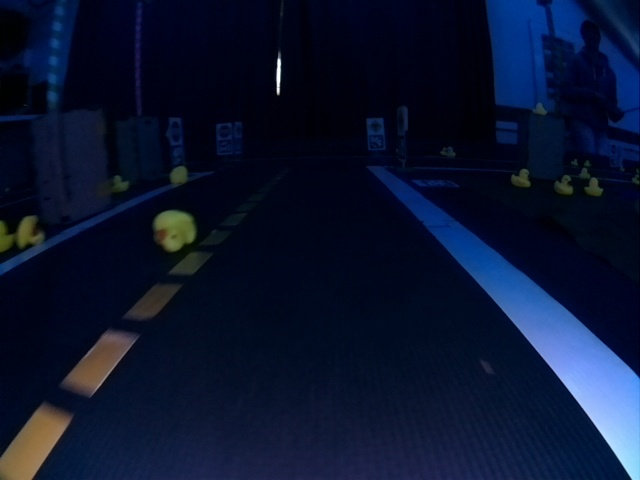Duckie: (152, 210, 197, 252), (18, 215, 45, 248), (584, 177, 604, 197), (555, 174, 573, 195), (512, 169, 532, 186), (111, 175, 129, 192), (172, 167, 188, 183), (578, 167, 591, 179), (533, 103, 545, 113), (447, 147, 456, 157)
Intersection sign: (369, 120, 382, 132)
QR code: (411, 179, 459, 189), (218, 140, 230, 153), (369, 138, 383, 149)
Stop sign: (169, 120, 181, 143), (217, 125, 230, 137)
